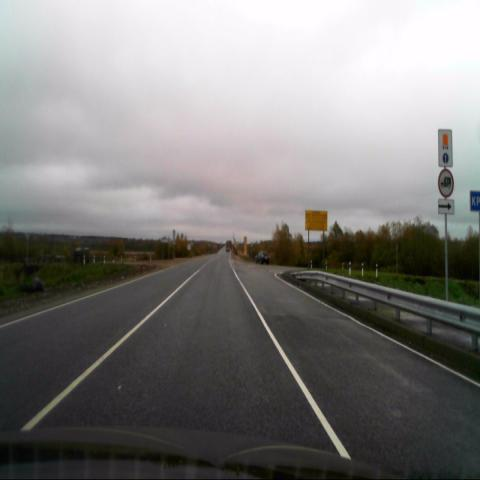3_4: (437, 168, 454, 196)
4_8_2: (438, 129, 453, 167)
8_3_1: (438, 199, 454, 214)
